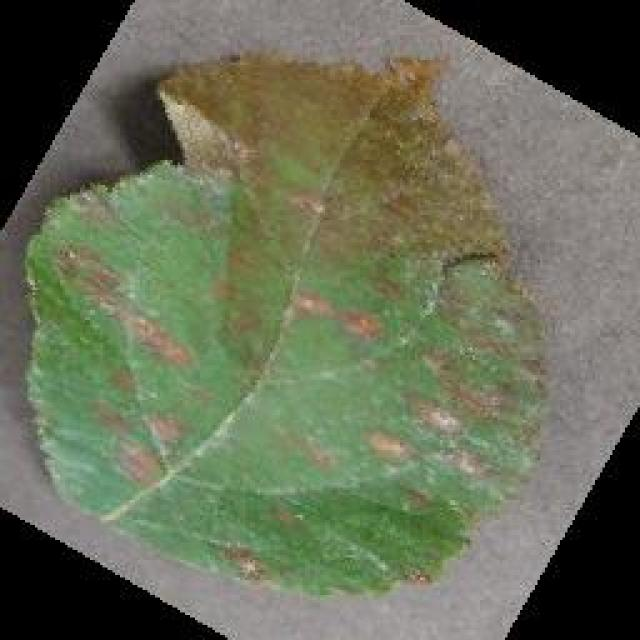apple cedar apple rust: (20, 45, 552, 603)
